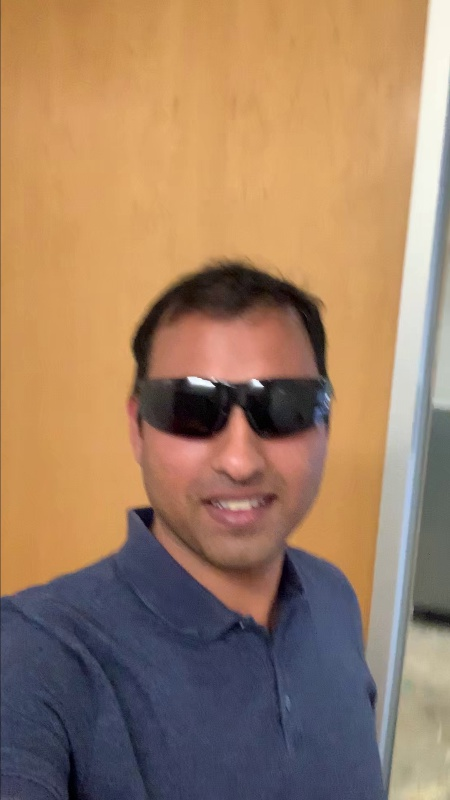glasses: (118, 367, 344, 445)
